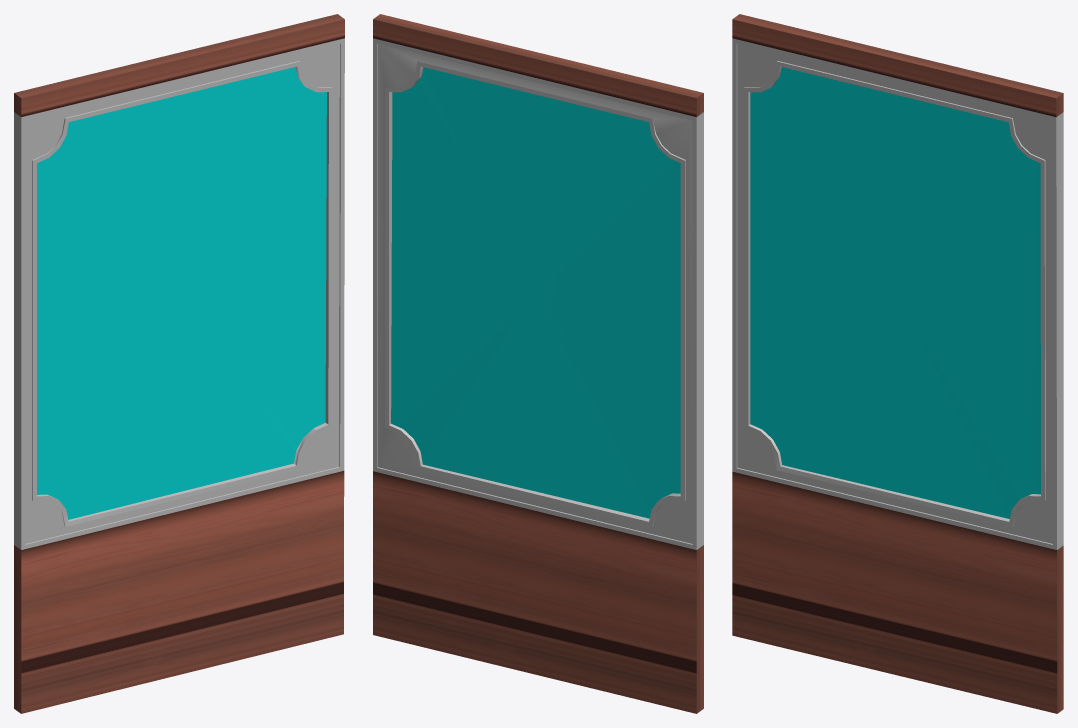
File: Window_V02.fbx
3 renders of one model, left to right at view 1: azimuth 30°, elevation 25°; view 2: azimuth 150°, elevation 25°; view 3: azimuth 330°, elevation 25°, orthographic.
Visible parts, largest first — view 1: WIndow; view 2: WIndow; view 3: WIndow.
Boxes of the visible parts, x1,y1,x2,y2 form: WIndow: (14, 14, 344, 713); WIndow: (373, 14, 703, 713); WIndow: (732, 14, 1063, 713).
Size of the model in its own units: 110 by 200 by 4.25.
